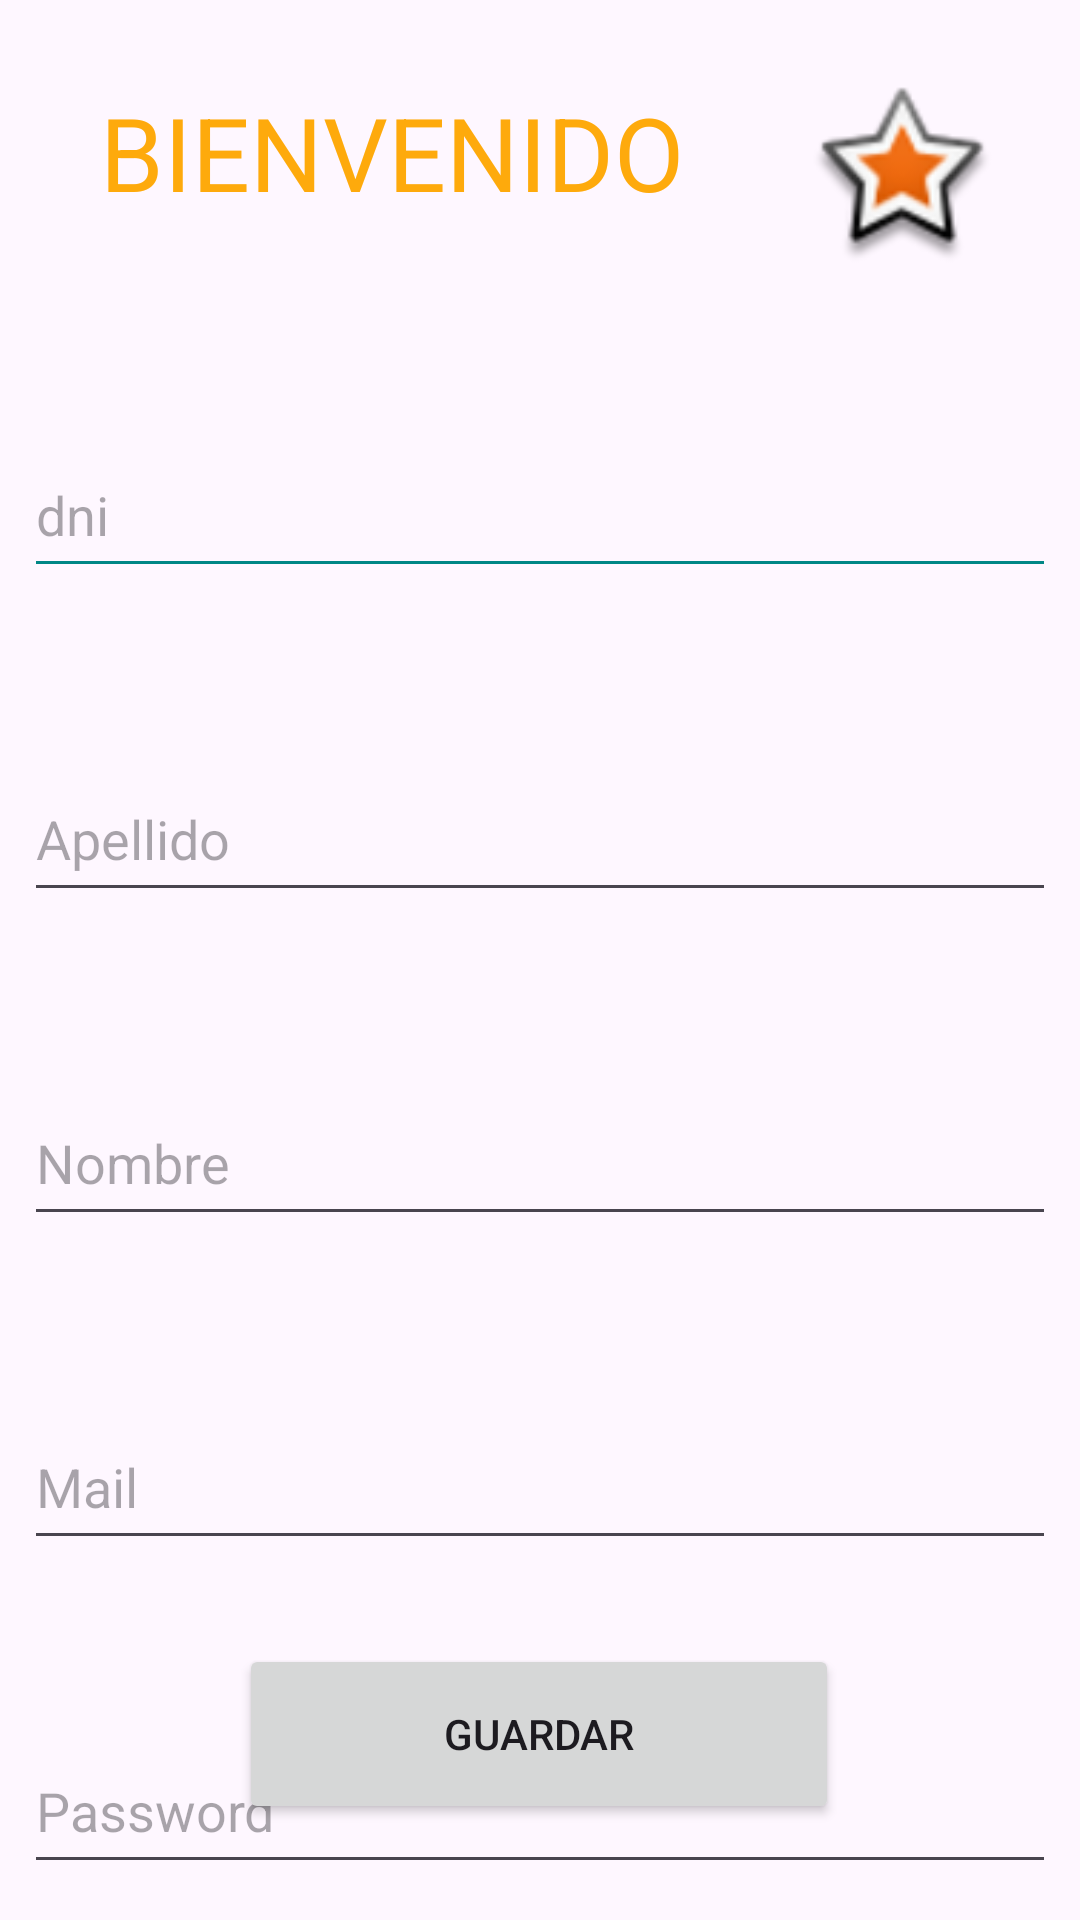

Point at icon controls on the screen. Image size 1080 x 1920, points as [x,y].
star on: [902,171]
